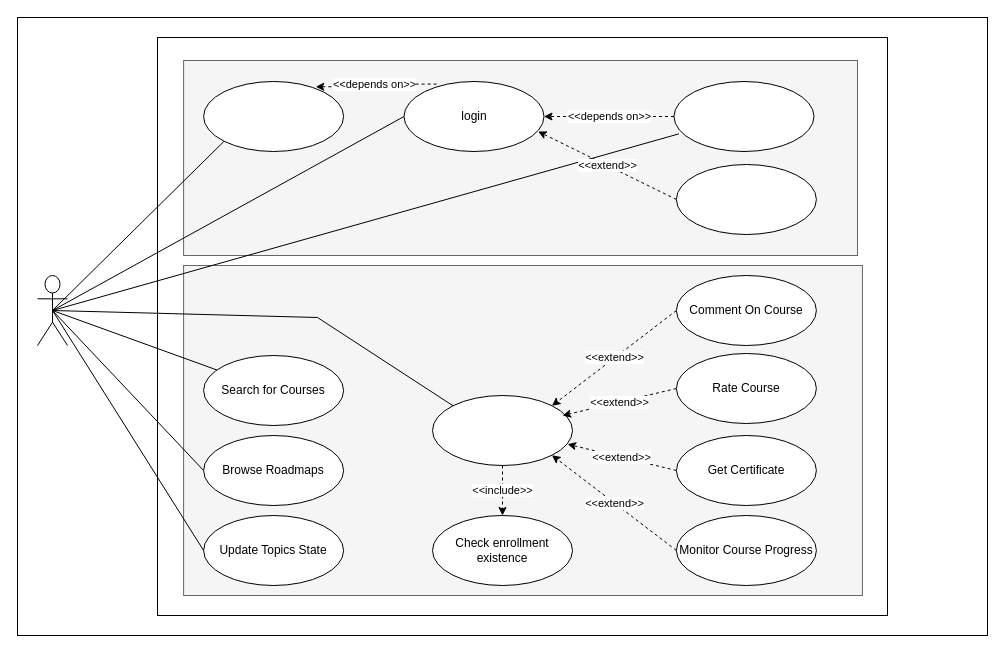
This 1005x653 diagram has some shape labels left out. Here are the shapes that lost their labels. From the top down, the centre of each, then its label:
At (273,116): "sign up".
At (743,116): "Manage Profile".
At (745,199): "logout".
At (52,310): "Student".
At (502,430): "Enroll in Course".
